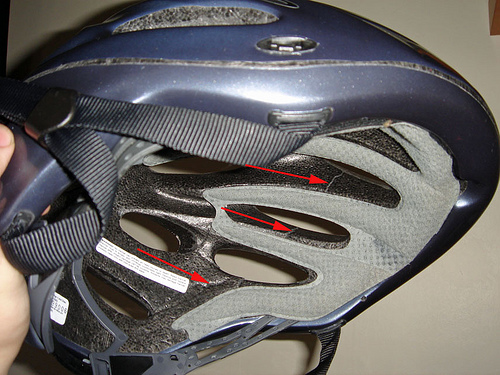helmet: (16, 12, 481, 314)
